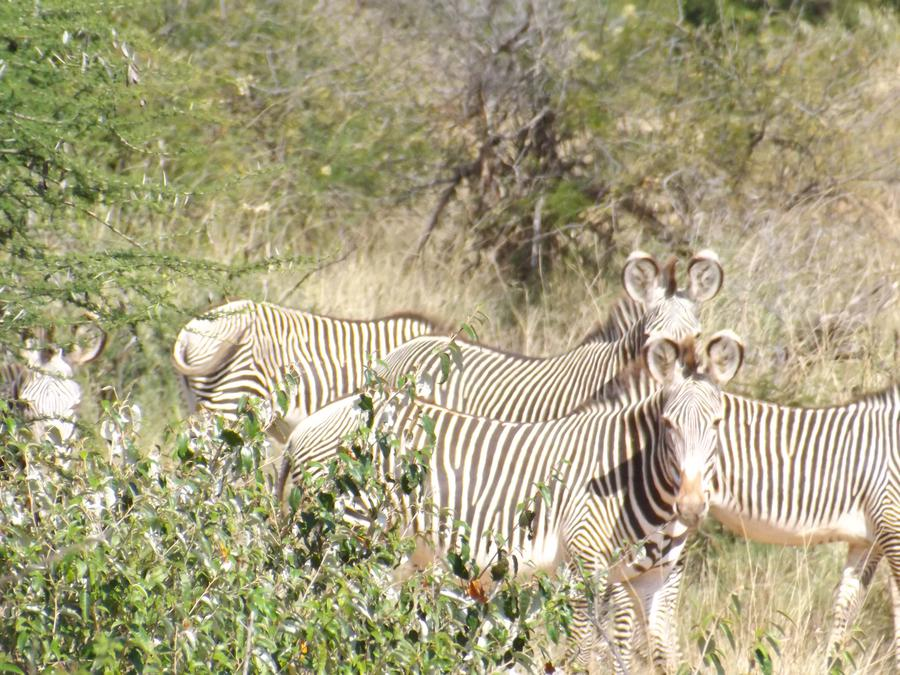zebra_grevys: (734, 381, 890, 536)
